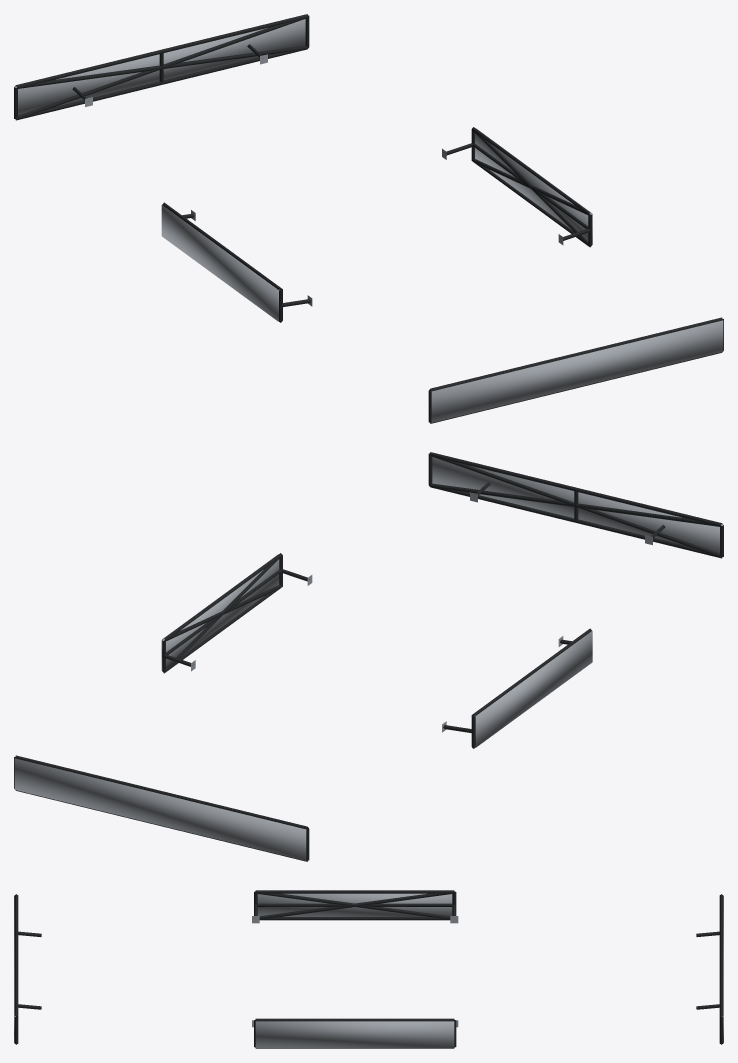
The model's file is brakhaus_colosso_protecao.glb.
The picture shows the model from 3 angles, top to bottom: view 1: azimuth 30°, elevation 25°; view 2: azimuth 150°, elevation 25°; view 3: azimuth 270°, elevation 25°; orthographic projection. The views are drawn at different scales.
Visible parts, largest first — view 1: Protection_front_Level3_Details, Protection_rear_Level3_Details, Protection_left_Level3_Details, Protection_rear_Level1_Details, Protection_rear_Level2_Details, Protection_right_Level3_Details, Protection_front_Level1_Details, Protection_right_Level1_Details, Protection_right_Level2_Details, Protection_left_Level1_Details; view 2: Protection_rear_Level3_Details, Protection_front_Level3_Details, Protection_left_Level3_Details, Protection_front_Level1_Details, Protection_front_Level2_Details, Protection_right_Level3_Details, Protection_rear_Level1_Details, Protection_right_Level1_Details, Protection_right_Level2_Details, Protection_left_Level1_Details; view 3: Protection_right_Level3_Details, Protection_left_Level3_Details, Protection_left_Level2_Details, Protection_left_Level1_Details, Protection_right_Level1_Details, Protection_rear_Level1_Details, Protection_front_Level1_Details.
Boxes of the visible parts, bbox=[...] form: Protection_front_Level3_Details: bbox=[431, 320, 723, 422]; Protection_rear_Level3_Details: bbox=[14, 19, 305, 115]; Protection_left_Level3_Details: bbox=[161, 205, 279, 321]; Protection_rear_Level1_Details: bbox=[14, 14, 309, 120]; Protection_rear_Level2_Details: bbox=[15, 17, 308, 119]; Protection_right_Level3_Details: bbox=[475, 128, 592, 244]; Protection_front_Level1_Details: bbox=[428, 317, 723, 423]; Protection_right_Level1_Details: bbox=[442, 127, 592, 247]; Protection_right_Level2_Details: bbox=[472, 130, 590, 246]; Protection_left_Level1_Details: bbox=[162, 202, 312, 321]; Protection_rear_Level3_Details: bbox=[14, 758, 306, 860]; Protection_front_Level3_Details: bbox=[432, 457, 723, 553]; Protection_left_Level3_Details: bbox=[474, 631, 592, 747]; Protection_front_Level1_Details: bbox=[428, 452, 723, 558]; Protection_front_Level2_Details: bbox=[429, 455, 722, 557]; Protection_right_Level3_Details: bbox=[161, 554, 279, 670]; Protection_rear_Level1_Details: bbox=[14, 755, 309, 861]; Protection_right_Level1_Details: bbox=[162, 553, 312, 673]; Protection_right_Level2_Details: bbox=[163, 556, 282, 673]; Protection_left_Level1_Details: bbox=[442, 628, 591, 748]; Protection_right_Level3_Details: bbox=[255, 1021, 454, 1047]; Protection_left_Level3_Details: bbox=[257, 893, 452, 916]; Protection_left_Level2_Details: bbox=[256, 893, 453, 918]; Protection_left_Level1_Details: bbox=[252, 890, 458, 923]; Protection_right_Level1_Details: bbox=[252, 1018, 458, 1048]; Protection_rear_Level1_Details: bbox=[696, 894, 723, 1043]; Protection_front_Level1_Details: bbox=[14, 894, 41, 1043].
Size of the model in its own units: 4.31 by 0.464 by 9.91.
1 material, 1 textured.
